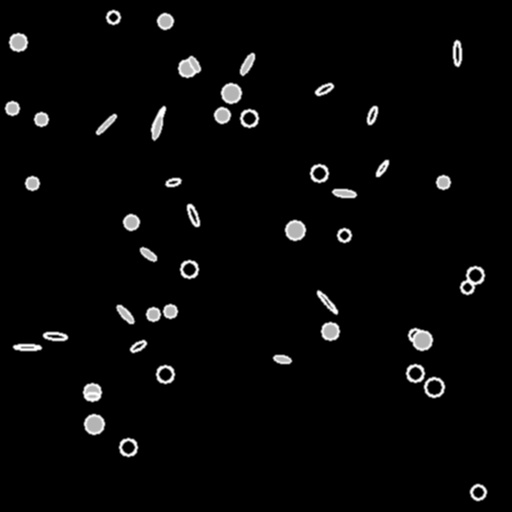pseudomonas: (316, 289, 338, 315), (95, 113, 117, 135), (115, 303, 135, 325), (150, 106, 166, 132), (238, 53, 256, 75), (314, 81, 334, 97), (138, 246, 158, 262), (151, 114, 163, 140), (186, 204, 200, 226), (187, 55, 201, 73), (129, 339, 147, 353), (375, 159, 389, 177), (332, 188, 356, 198), (366, 105, 378, 125), (43, 332, 67, 340), (453, 41, 461, 65), (273, 354, 291, 364), (165, 177, 181, 187), (14, 344, 40, 350), (85, 393, 100, 399)
synechocystis: (222, 84, 240, 102), (413, 331, 431, 349), (425, 378, 443, 396), (286, 221, 304, 239), (85, 415, 103, 433), (322, 323, 338, 339), (84, 384, 100, 400), (179, 60, 195, 76), (467, 267, 483, 283), (241, 110, 257, 126), (10, 34, 26, 50), (311, 165, 327, 181), (407, 365, 423, 381), (157, 366, 173, 382), (120, 439, 136, 455), (181, 261, 197, 277), (215, 108, 229, 122), (158, 14, 172, 28), (124, 215, 138, 229), (471, 485, 485, 499), (338, 229, 350, 241), (409, 329, 421, 341), (164, 305, 176, 317), (35, 113, 47, 125), (107, 11, 119, 23), (147, 308, 159, 320), (461, 281, 473, 293), (437, 176, 449, 188), (26, 177, 38, 189), (6, 102, 18, 114)
